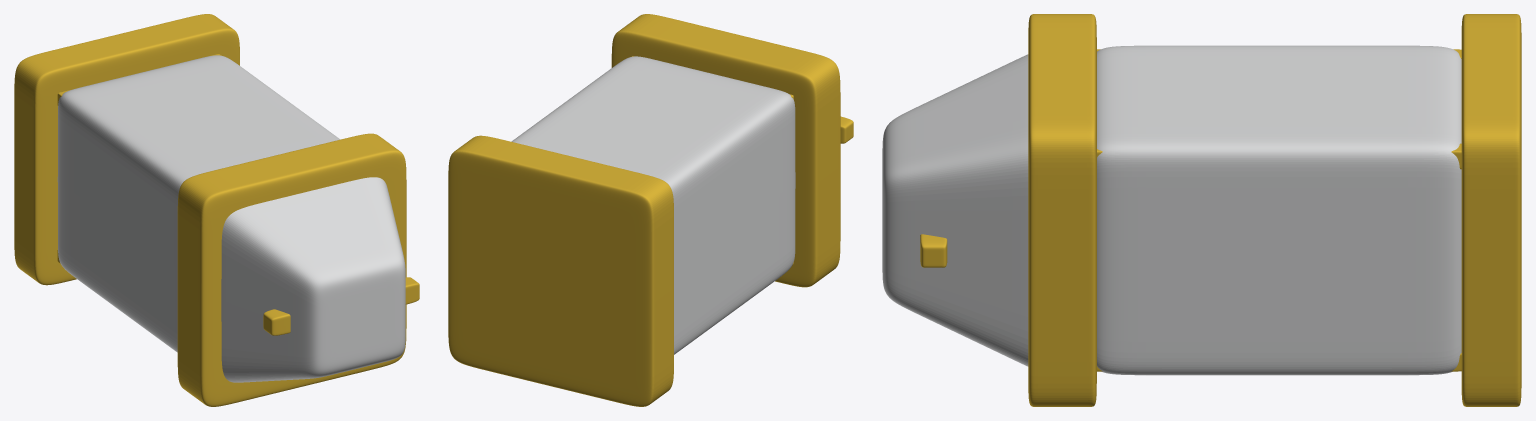
File: ornate_candle_lantern_sq.glb
3 renders of one model, left to right at view 1: azimuth 30°, elevation 25°; view 2: azimuth 150°, elevation 25°; view 3: azimuth 270°, elevation 25°, orthographic. The views are drawn at different scales.
Visible parts, largest first — view 1: superquadric_1, superquadric_3, superquadric_2, superquadric_0, superquadric_4; view 2: superquadric_0, superquadric_1, superquadric_2; view 3: superquadric_1, superquadric_3, superquadric_2, superquadric_0, superquadric_4.
Part boxes in pixels (x1,y1,x2,y2): superquadric_1: (57,55,340,352); superquadric_3: (221,177,405,382); superquadric_2: (177,133,406,406); superquadric_0: (14,14,239,285); superquadric_4: (263,277,419,335); superquadric_0: (448,135,673,406); superquadric_1: (511,56,795,354); superquadric_2: (611,14,840,287); superquadric_1: (1097,45,1461,375); superquadric_3: (882,54,1028,366); superquadric_2: (1028,14,1096,406); superquadric_0: (1461,14,1521,406); superquadric_4: (920,234,947,267).
Size of the model in its own units: 0.4832 by 0.4832 by 1.
